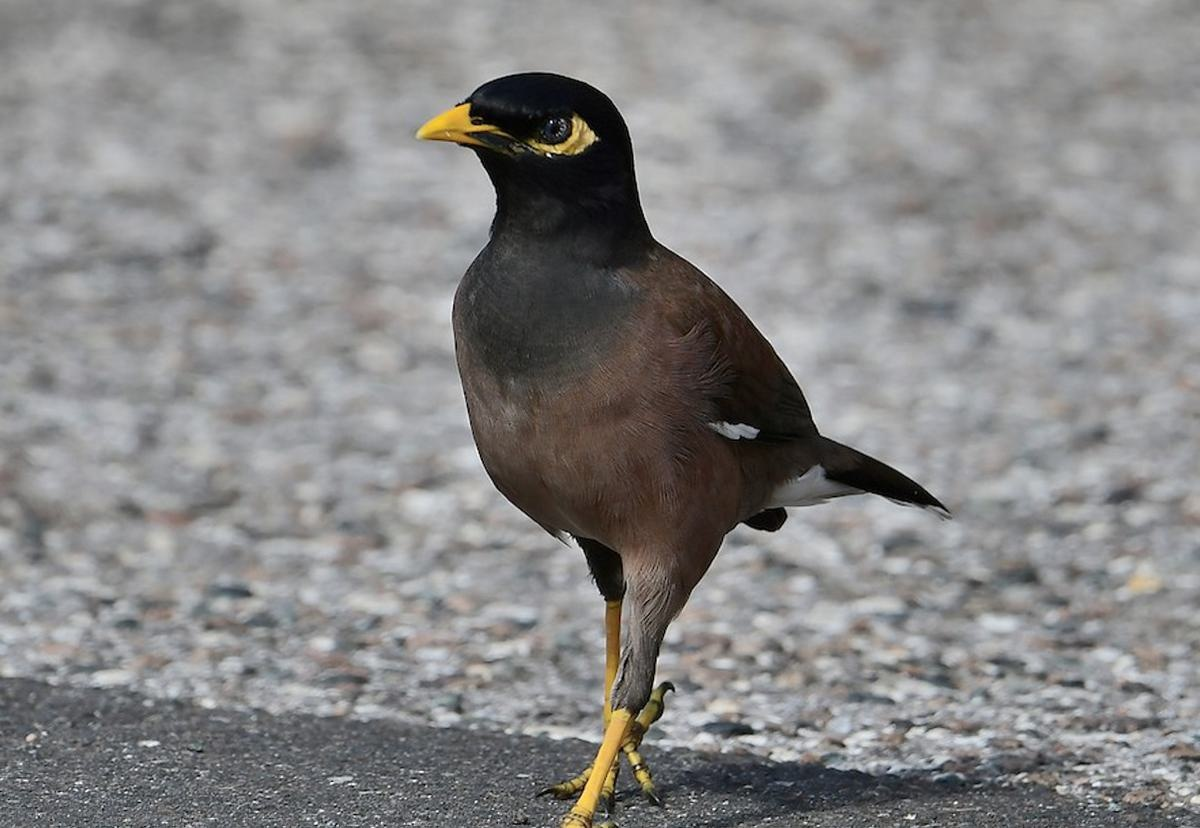myna: (395, 65, 918, 766)
